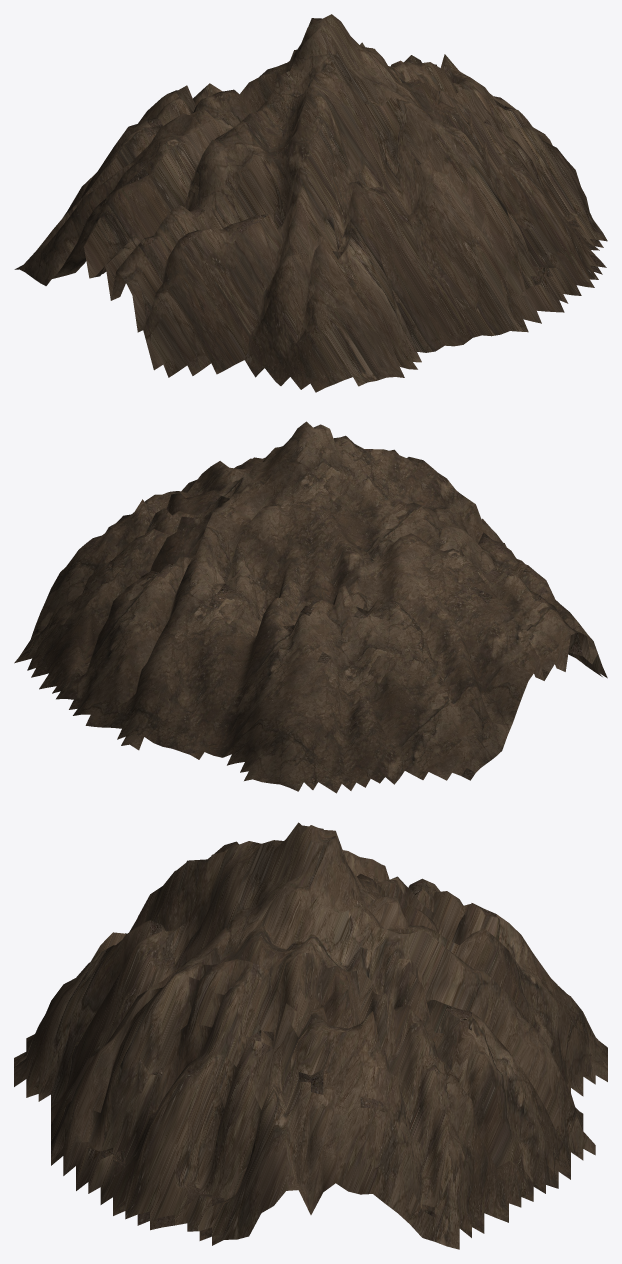
The model's file is border_peak_c_v5_dead.glb.
3 renders of one model, top to bottom at view 1: azimuth 30°, elevation 25°; view 2: azimuth 150°, elevation 25°; view 3: azimuth 270°, elevation 25°, orthographic. The views are drawn at different scales.
Parts seen in each view (by area): view 1: border_peak_c; view 2: border_peak_c; view 3: border_peak_c.
Boxes of the visible parts, box(x1,y1,x2,y2) form: border_peak_c: box(14, 14, 607, 392); border_peak_c: box(14, 421, 607, 793); border_peak_c: box(14, 822, 607, 1249).
Size of the model in its own units: 1 by 0.5141 by 0.9412.
2 materials, 2 textured.
